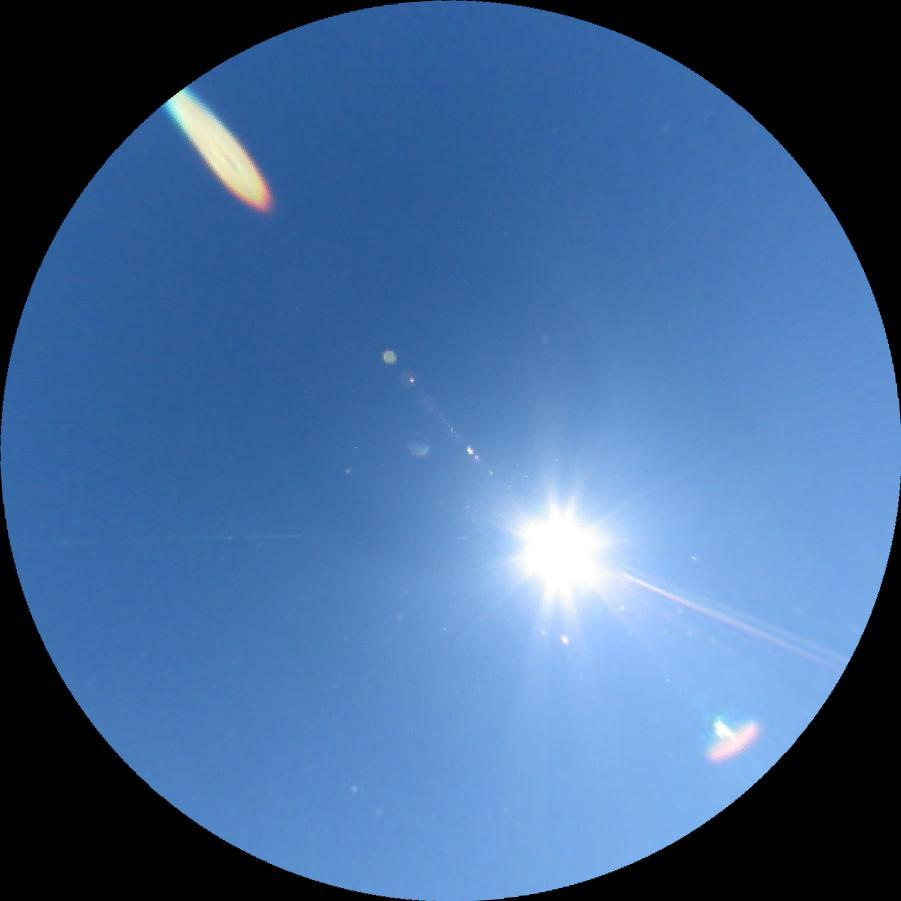parasite: (618, 566, 843, 674), (12, 529, 300, 549)
sun: (505, 496, 611, 602)
